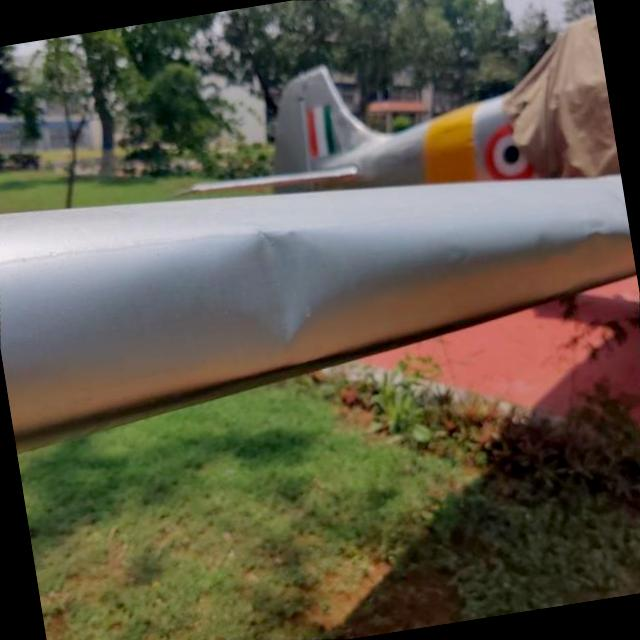dent: (206, 206, 356, 356)
